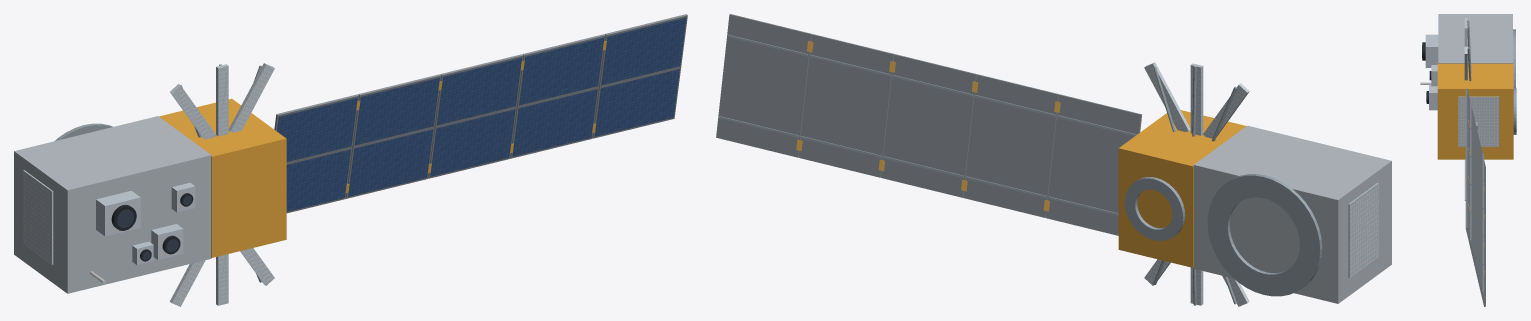
Rendered from metop-ab.glb.
3 renders of one model, left to right at view 1: azimuth 30°, elevation 25°; view 2: azimuth 150°, elevation 25°; view 3: azimuth 270°, elevation 25°, orthographic. The views are drawn at different scales.
Visible parts, largest first — view 1: Solar cell strings (×10), Spacecraft body (×2), Solar panel substrate (×5), ASCAT fan-beam antenna (×6), Thermal radiator tiles, IASI sounder housing, GOME-2 housing, AVHRR housing; view 2: Solar panel substrate (×5), Spacecraft body (×2), Launch interface (×2), ASCAT fan-beam antenna (×3), Thermal radiator tiles; view 3: Spacecraft body (×2), Solar panel substrate (×5), Thermal radiator tiles, IASI sounder housing, Launch interface (×2), ASCAT fan-beam antenna (×3), GOME-2 housing, ASCAT support (×2), AVHRR housing.
Boxes of the visible parts, x1,y1,x2,y2 form: Solar cell strings (×10): [277, 17, 686, 211]; Spacecraft body (×2): [14, 98, 286, 293]; Solar panel substrate (×5): [274, 14, 687, 213]; ASCAT fan-beam antenna (×6): [170, 63, 274, 306]; Thermal radiator tiles: [23, 170, 53, 264]; IASI sounder housing: [96, 191, 140, 236]; GOME-2 housing: [151, 224, 183, 259]; AVHRR housing: [171, 182, 195, 212]; Solar panel substrate (×5): [716, 14, 1142, 235]; Spacecraft body (×2): [1118, 110, 1391, 303]; Launch interface (×2): [1124, 174, 1322, 296]; ASCAT fan-beam antenna (×3): [1144, 62, 1249, 138]; Thermal radiator tiles: [1348, 183, 1378, 277]; Spacecraft body (×2): [1437, 14, 1513, 159]; Solar panel substrate (×5): [1465, 88, 1485, 306]; Thermal radiator tiles: [1458, 96, 1499, 146]; IASI sounder housing: [1425, 34, 1438, 67]; Launch interface (×2): [1513, 29, 1516, 134]; ASCAT fan-beam antenna (×3): [1464, 25, 1467, 200]; GOME-2 housing: [1429, 84, 1437, 110]; ASCAT support (×2): [1467, 26, 1471, 81]; AVHRR housing: [1431, 65, 1437, 86].
Bounding box in the file's own units: 17.63 × 6.24 × 3.3.
Materials: 11 (2 with a texture image).
